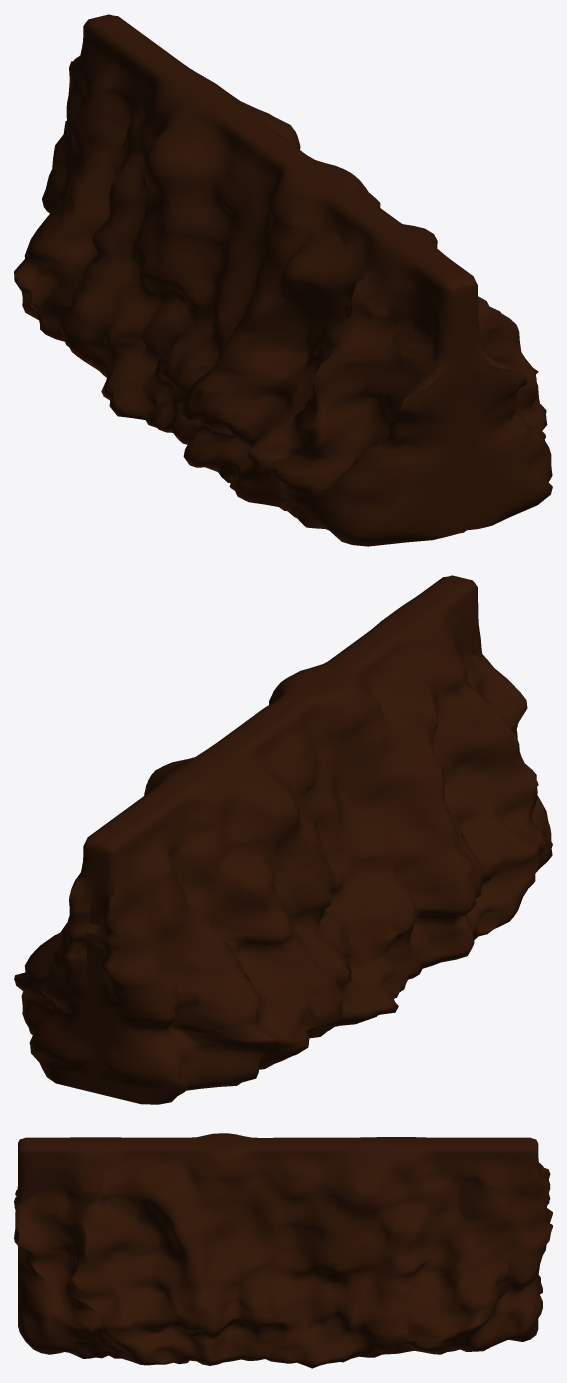
File: Pared Rocosa 2.fbx
3 views of the same model, one above another, from view 1: azimuth 30°, elevation 25°; view 2: azimuth 150°, elevation 25°; view 3: azimuth 270°, elevation 25° (orthographic). The views are drawn at different scales.
Parts seen in each view (by area): view 1: pCube1; view 2: pCube1; view 3: pCube1.
Boxes of the visible parts, x1,y1,x2,y2 form: pCube1: [14, 14, 552, 546]; pCube1: [14, 575, 552, 1104]; pCube1: [14, 1133, 552, 1368].
Size of the model in its own units: 16.81 by 14.27 by 38.33.
